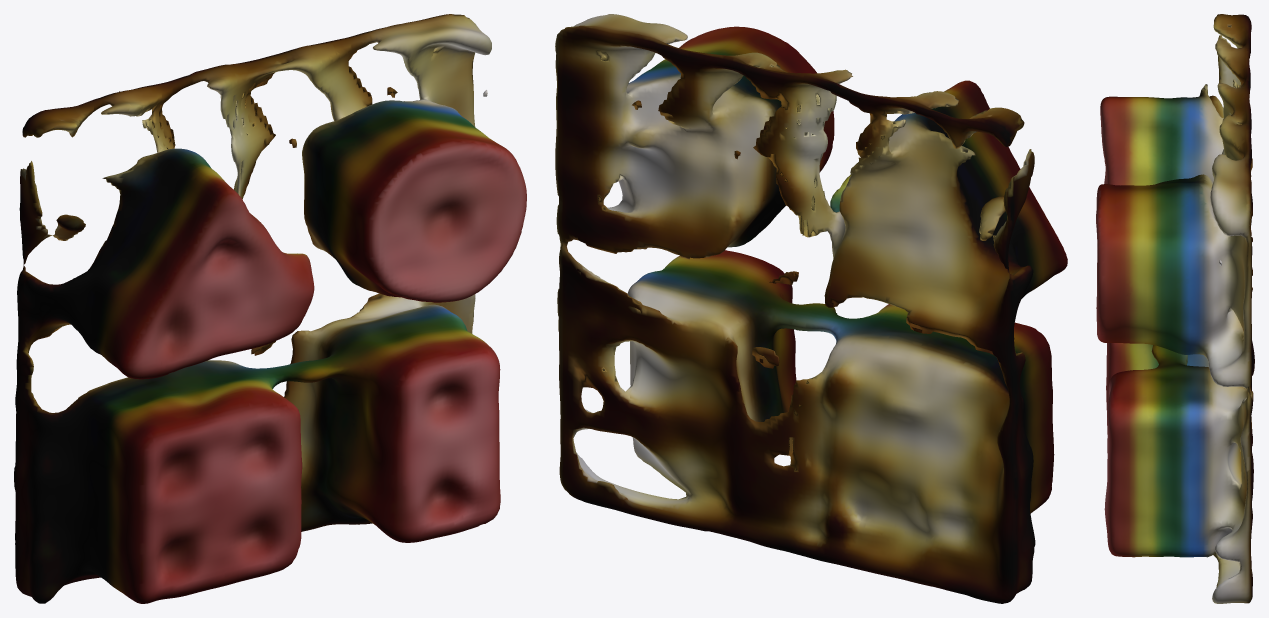
Rendered from sorting_board.glb.
3 renders of one model, left to right at view 1: azimuth 30°, elevation 25°; view 2: azimuth 150°, elevation 25°; view 3: azimuth 270°, elevation 25°, orthographic. The views are drawn at different scales.
Bounding box in the file's own units: 0.9981 × 0.9875 × 0.3413.
